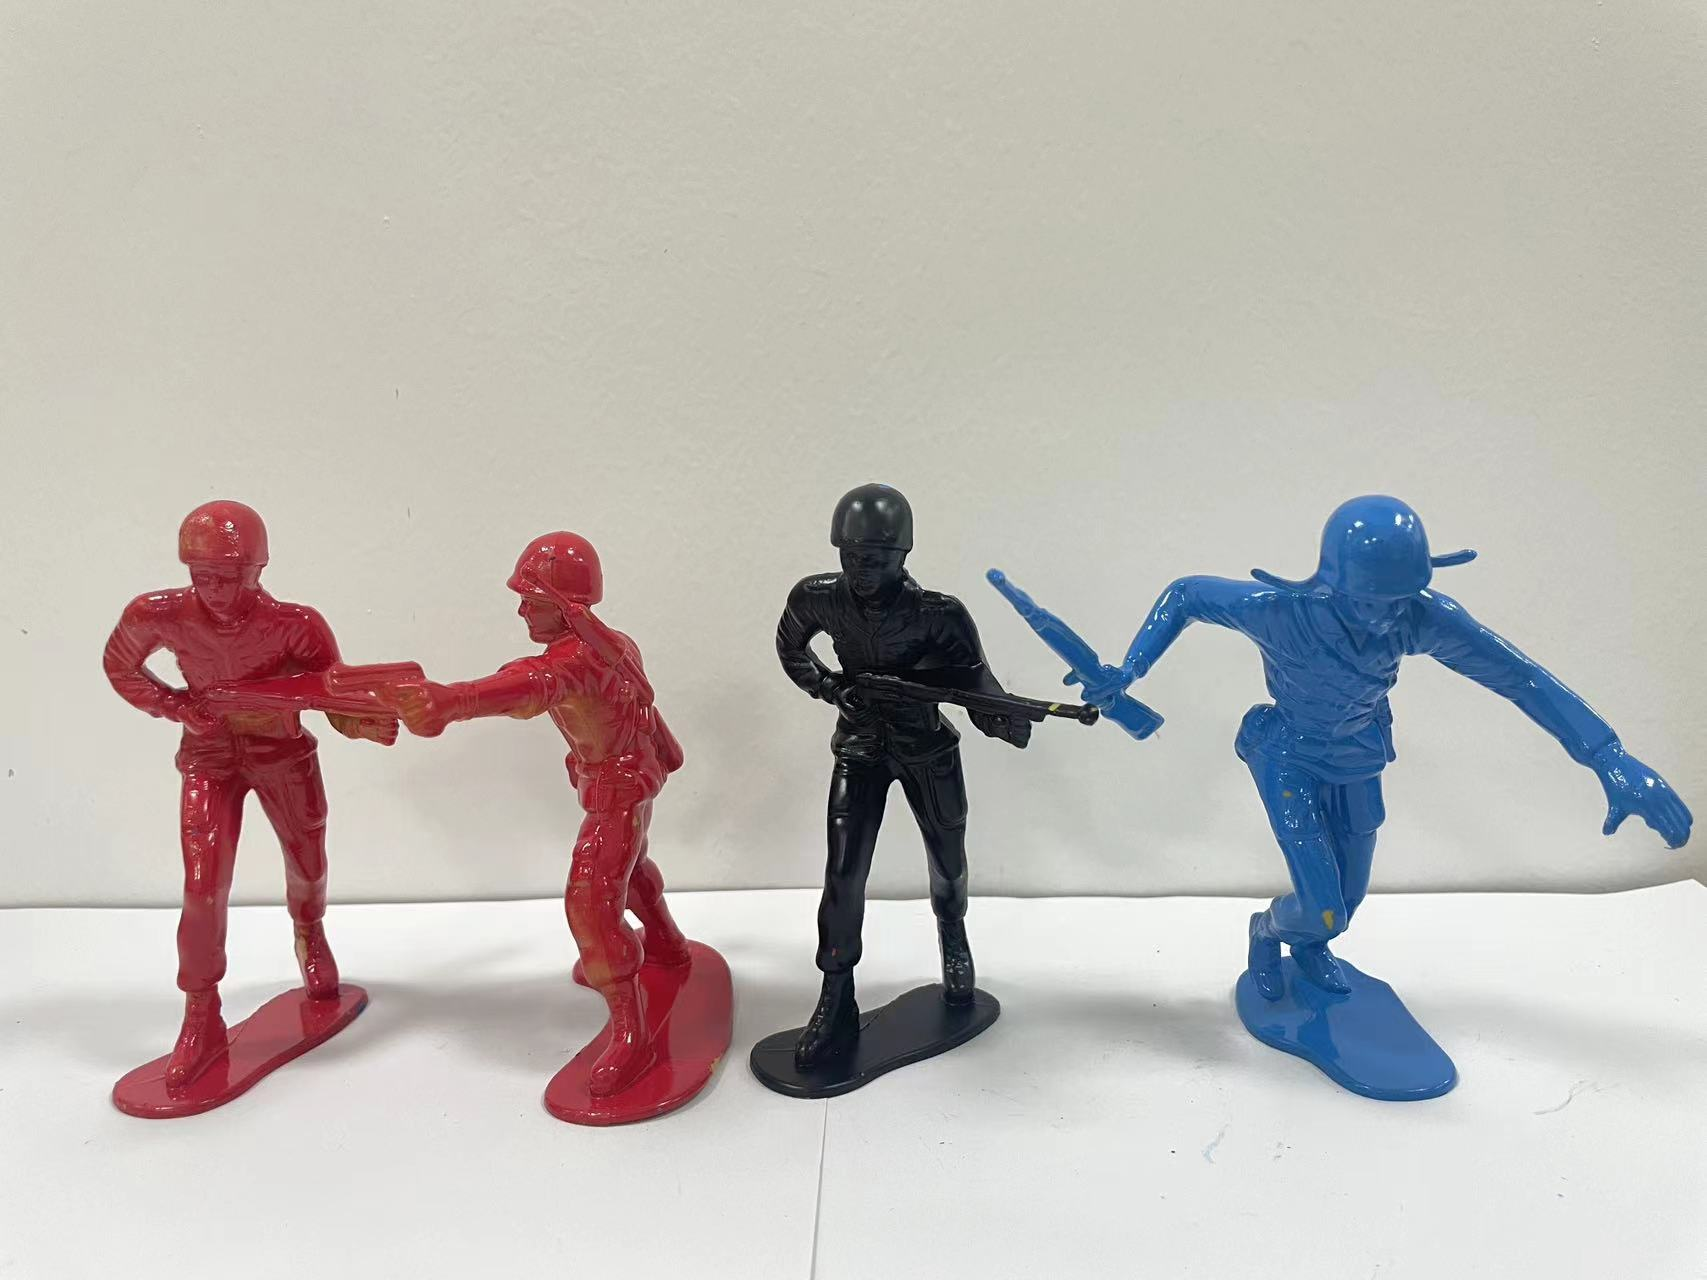black: (724, 430, 1081, 1194)
blue: (1065, 376, 1692, 1215)
red: (67, 467, 452, 1179), (413, 469, 769, 1203)
